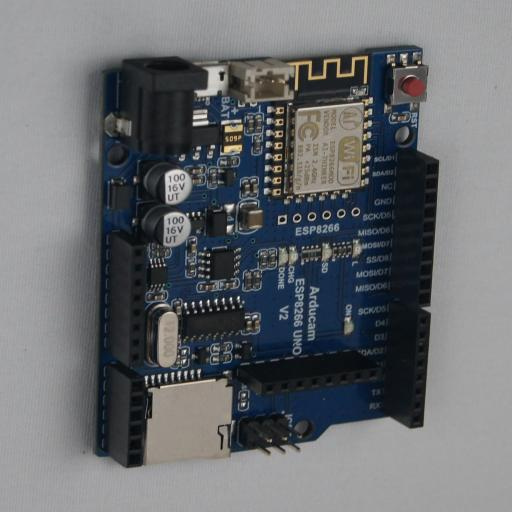Arduino Uno Camera Shield: (81, 45, 439, 468)
